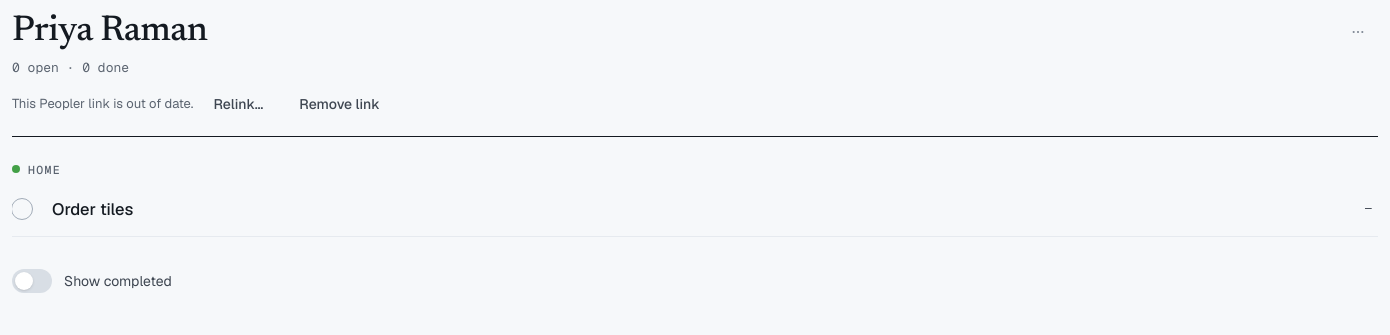
Test case: PersonPane Peopler link › stale › Remove link failing shows the error inline
Click the button "Remove link": (340, 104) [283,84,396,124]
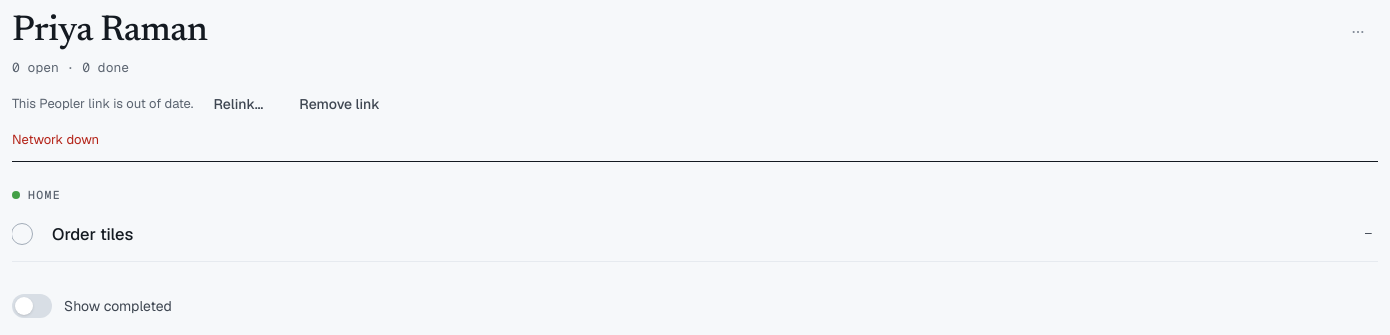
Result: the message reads "Network down" at [12,130,99,148]
